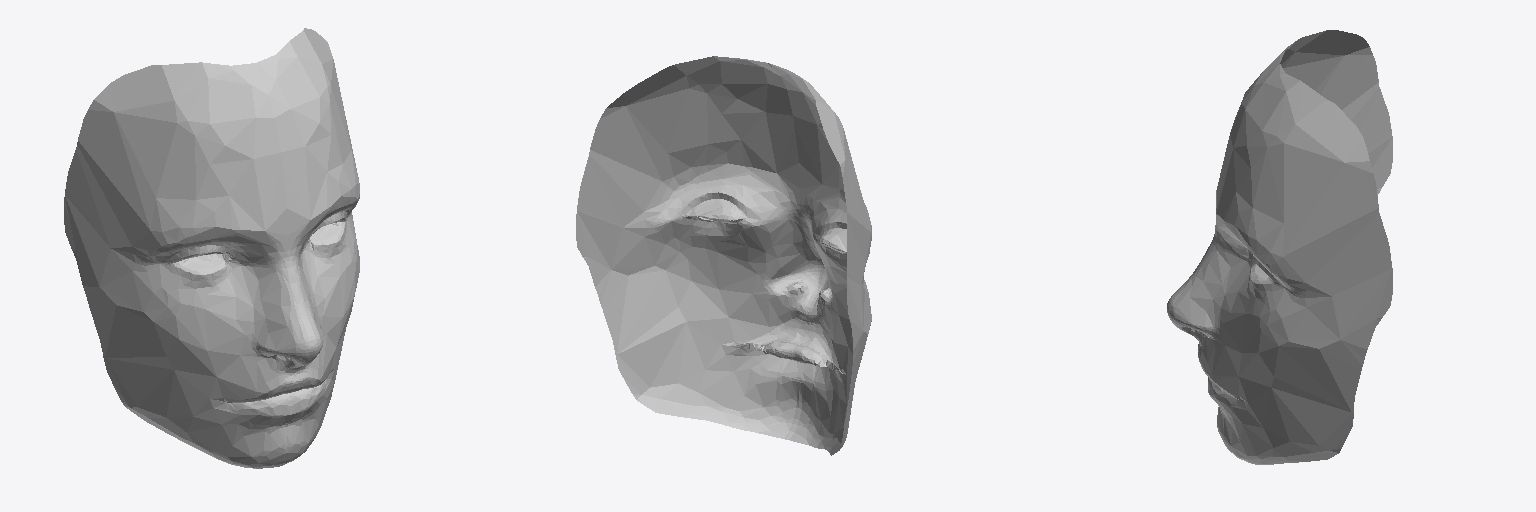
Rendered from head.obj.
The picture shows the model from 3 angles: view 1: azimuth 30°, elevation 25°; view 2: azimuth 150°, elevation 25°; view 3: azimuth 270°, elevation 25°; orthographic projection.
Parts seen in each view (by area): view 1: Object004; view 2: Object004; view 3: Object004.
Boxes of the visible parts, box(x1,y1,x2,y2) form: Object004: box(64, 28, 359, 468); Object004: box(576, 56, 871, 455); Object004: box(1167, 30, 1392, 464).
Bounding box in the file's own units: 95.47 × 132 × 68.91.